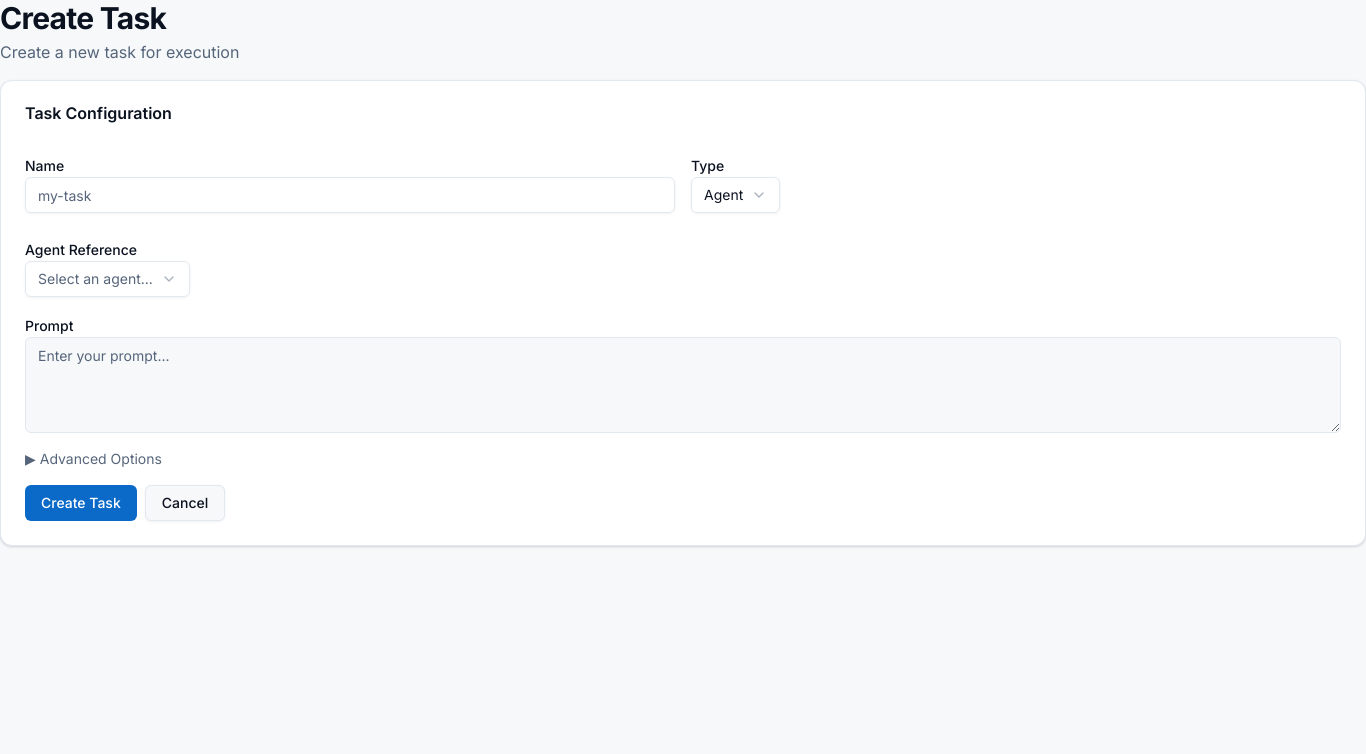
Test: TaskCreateForm › shows workspace config fields when agent type is selected and advanced expanded
Step 1. Click the button "▶ Advanced Options" → (93, 459), box [25,449,162,469]
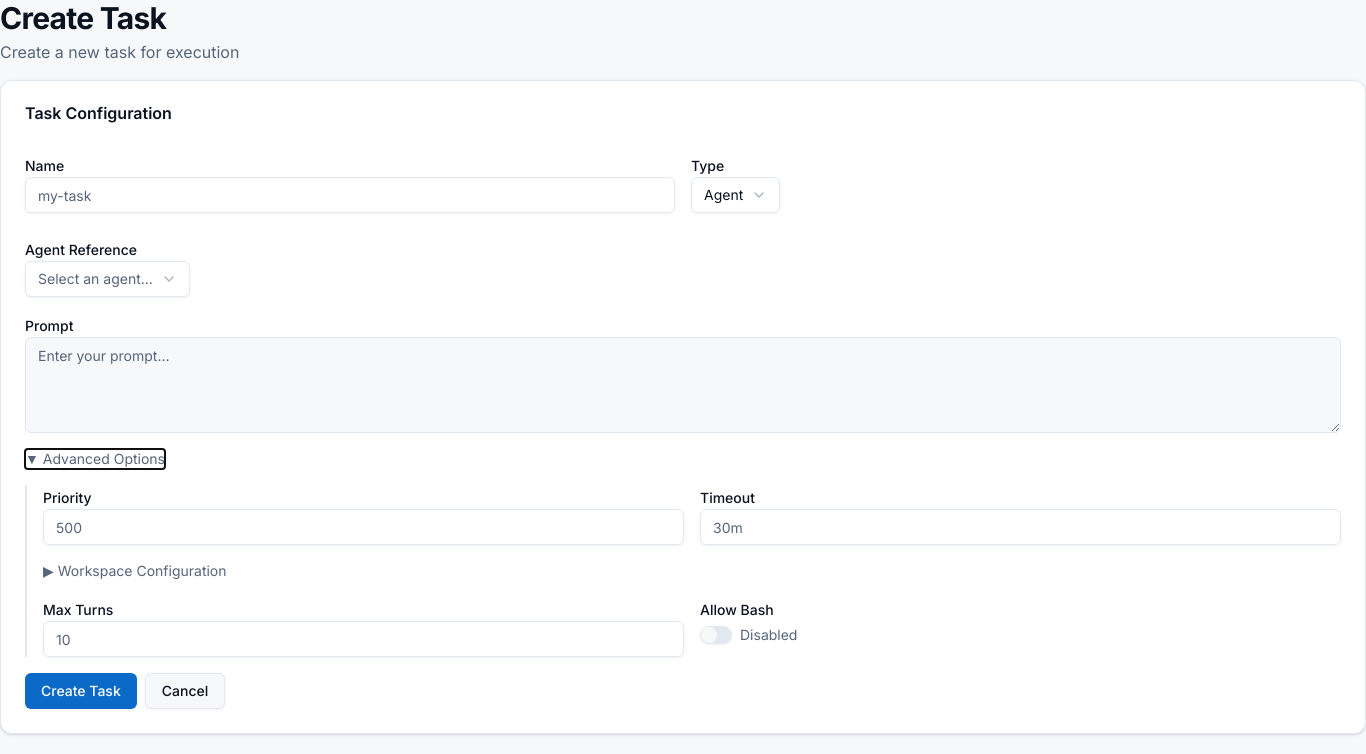
Check: the text "Max Turns" is shown, box [43,601,113,618]
Check: the text "Allow Bash" is shown, box [700,601,774,618]
Step 2. Click the button "▶ Workspace Configuration" → (135, 571), box [43,561,226,581]
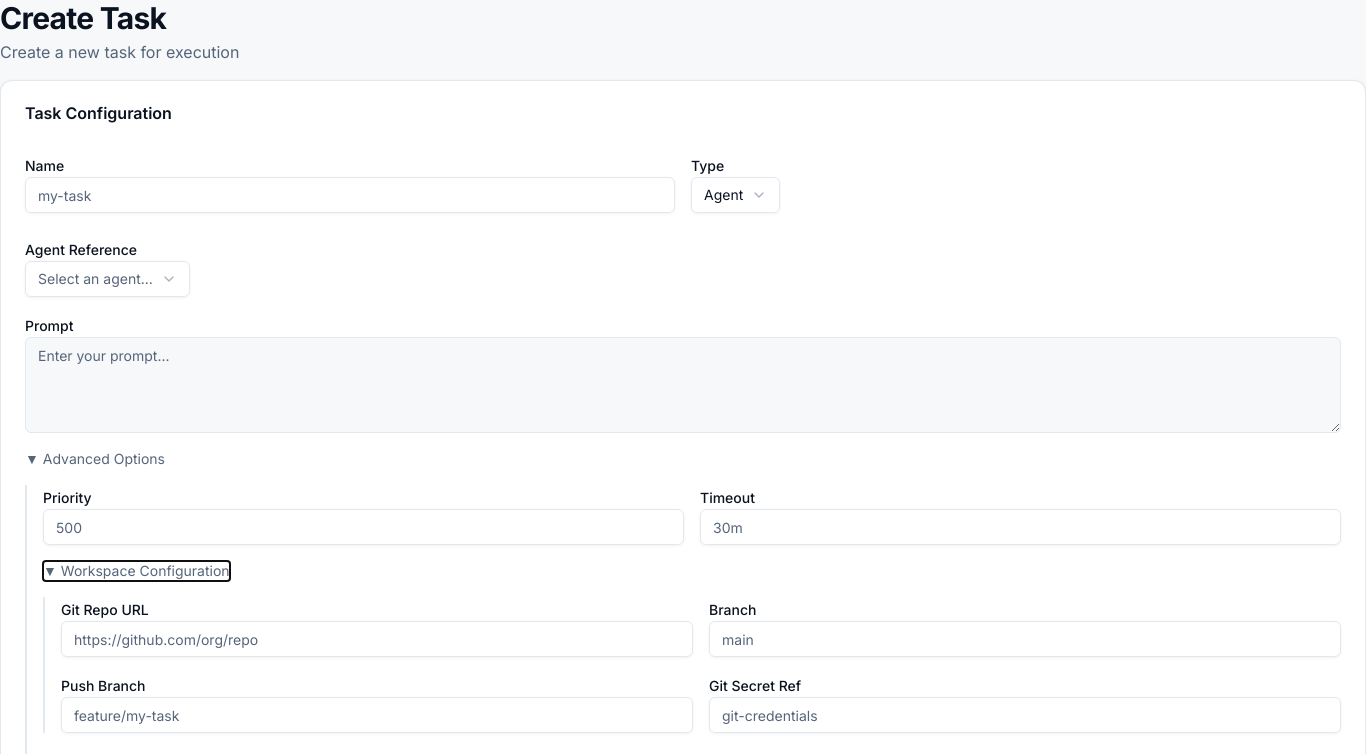
Check: the text "Git Repo URL" is shown, box [61,601,149,618]
Check: the field with placeholder "https://github.com/org/repo" is shown, box [61,621,693,657]
Check: the text "Branch" is shown, box [709,601,756,618]
